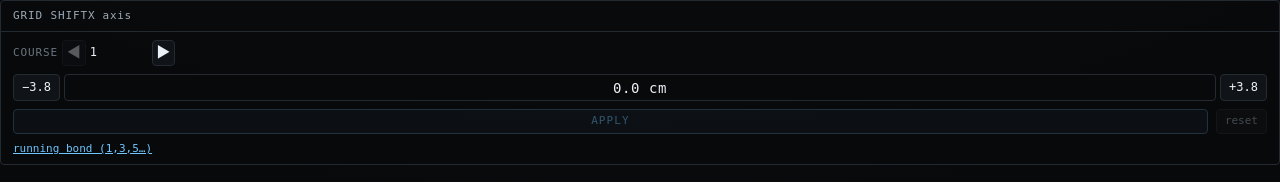
it: GridShift — incrementer, live preview, apply (horizontal grid) › reset drops the pending change
What coordinates should you click on to do the following:
click the button named "Increase by 3.8 cm"
I would click on:
 (1244, 88)
Its box is [1220, 74, 1267, 101].
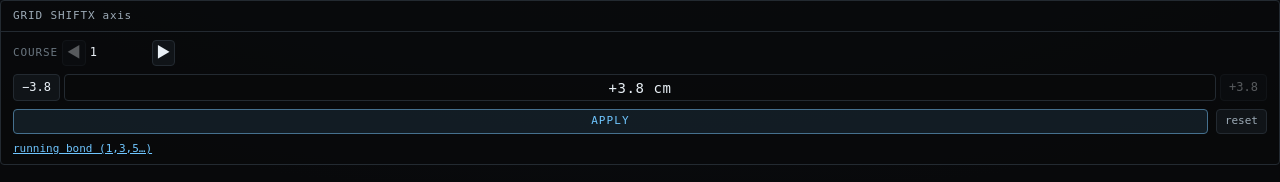
What coordinates should you click on to do the following:
click the button "reset"
I would click on:
 (1241, 122)
Its box is [1216, 109, 1267, 134].
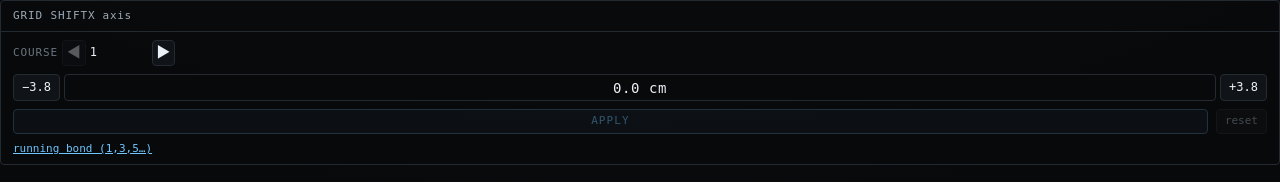
Now the text "0.0 cm" is shown, box [64, 74, 1216, 101]
